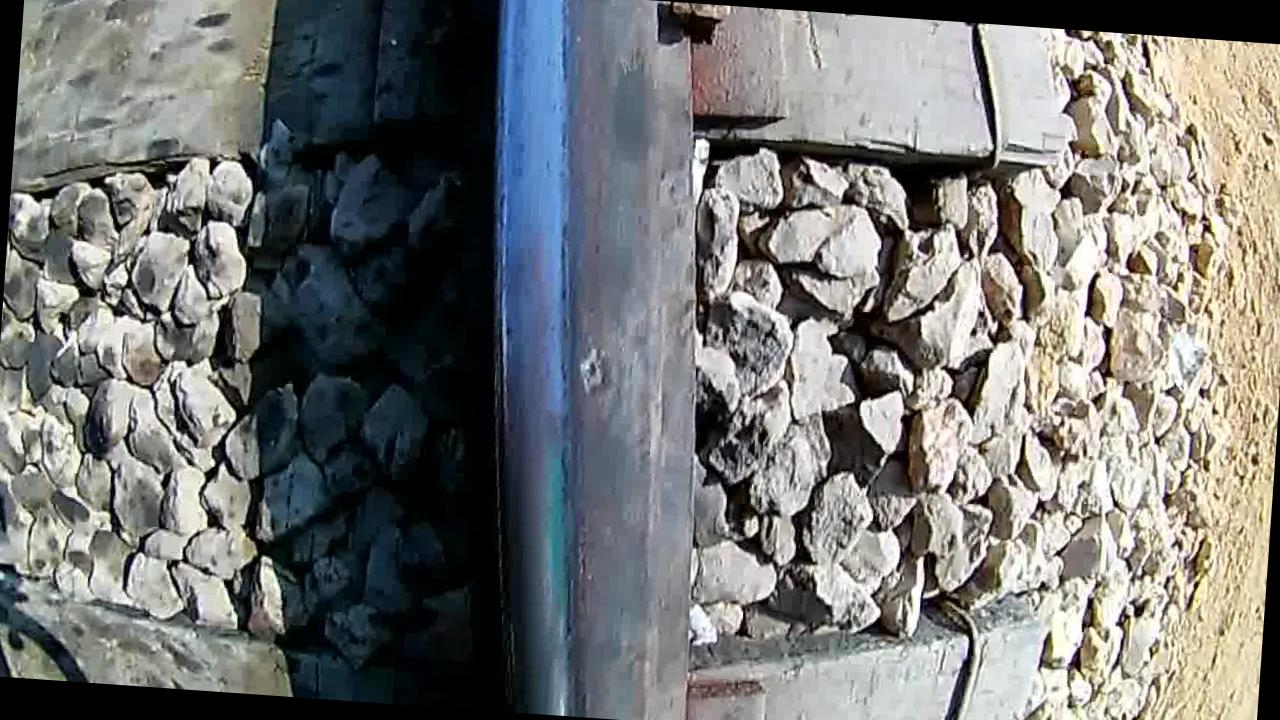crack: (465, 0, 710, 717)
